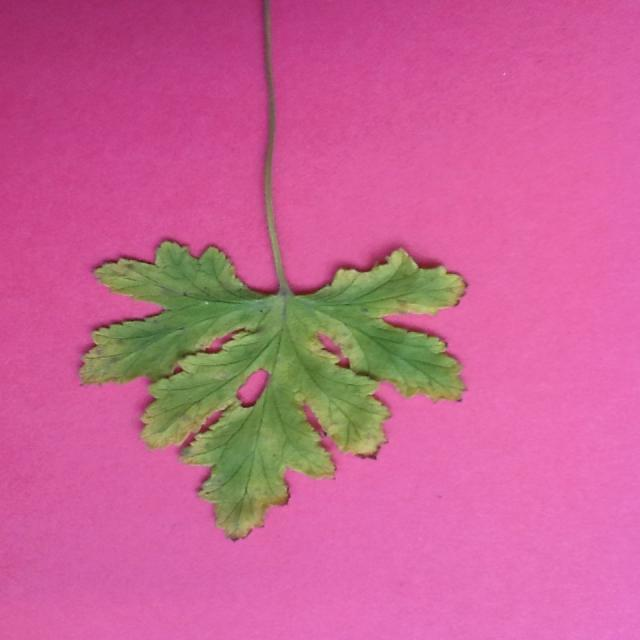foliage: (67, 1, 480, 546)
